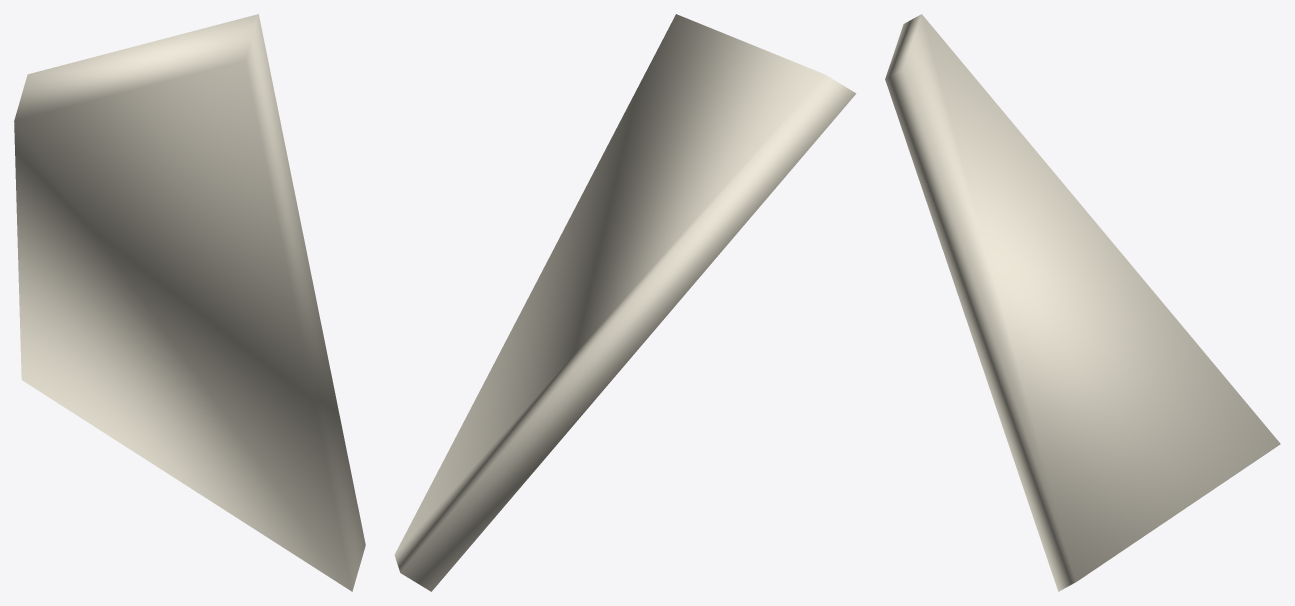
3 renders of one model, left to right at view 1: azimuth 30°, elevation 25°; view 2: azimuth 150°, elevation 25°; view 3: azimuth 270°, elevation 25°, orthographic. The views are drawn at different scales.
Visible parts, largest first — view 1: ZA_a65f9402a58ccff3; view 2: ZA_a65f9402a58ccff3; view 3: ZA_a65f9402a58ccff3.
Part boxes in pixels (x1,y1,x2,y2): ZA_a65f9402a58ccff3: [14, 14, 365, 591]; ZA_a65f9402a58ccff3: [394, 14, 856, 591]; ZA_a65f9402a58ccff3: [885, 14, 1280, 591].
Size of the model in its own units: 0.00523 by 0.00737 by 0.0058.
